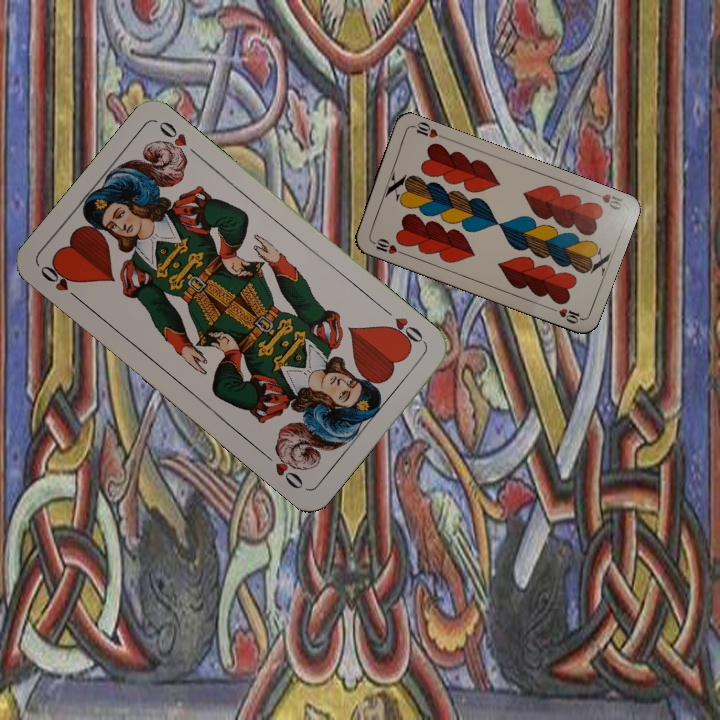H10: (587, 187, 625, 213), (367, 234, 406, 257)
HO: (378, 303, 428, 350), (36, 260, 85, 305)
